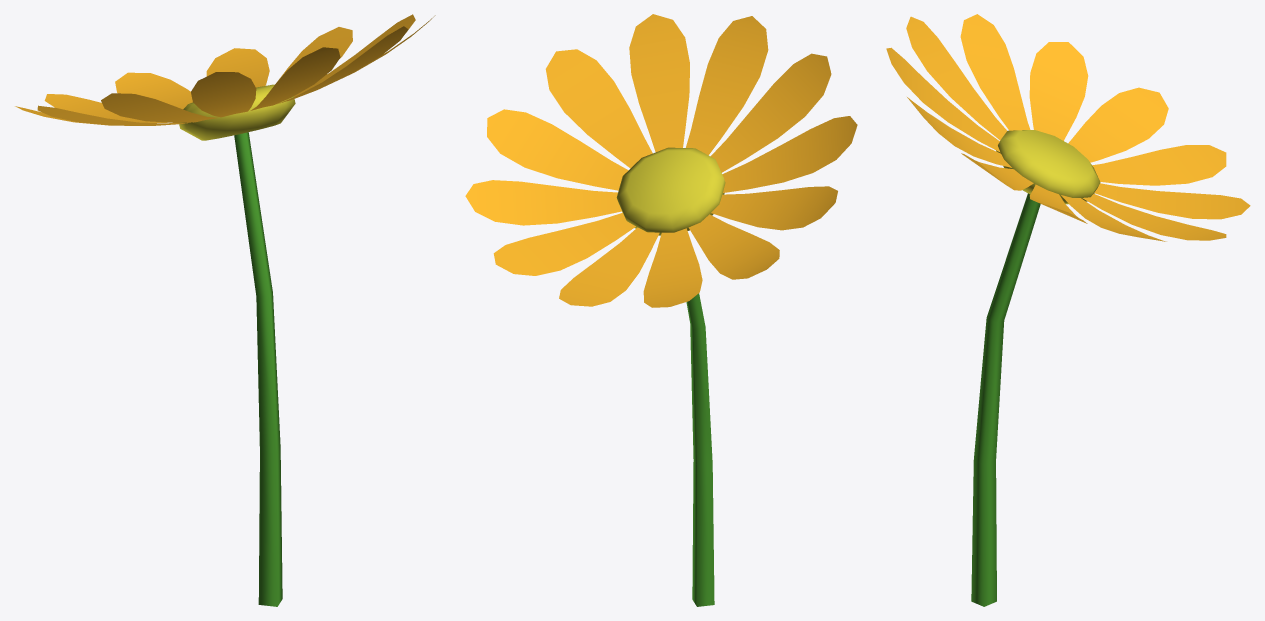
The model's file is YellowFlower.fbx.
3 views of the same model, side by side, from view 1: azimuth 30°, elevation 25°; view 2: azimuth 150°, elevation 25°; view 3: azimuth 270°, elevation 25° (orthographic). The views are drawn at different scales.
Parts seen in each view (by area): view 1: YellowFlower; view 2: YellowFlower; view 3: YellowFlower.
Part boxes in pixels (bbox=[...]): YellowFlower: bbox=[15, 14, 435, 606]; YellowFlower: bbox=[465, 14, 857, 606]; YellowFlower: bbox=[886, 14, 1250, 606].
Bounding box in the file's own units: 18.4 × 27.82 × 16.62.
